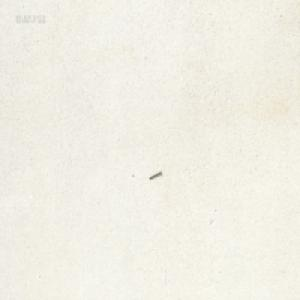Bolt: (148, 170, 161, 180)
